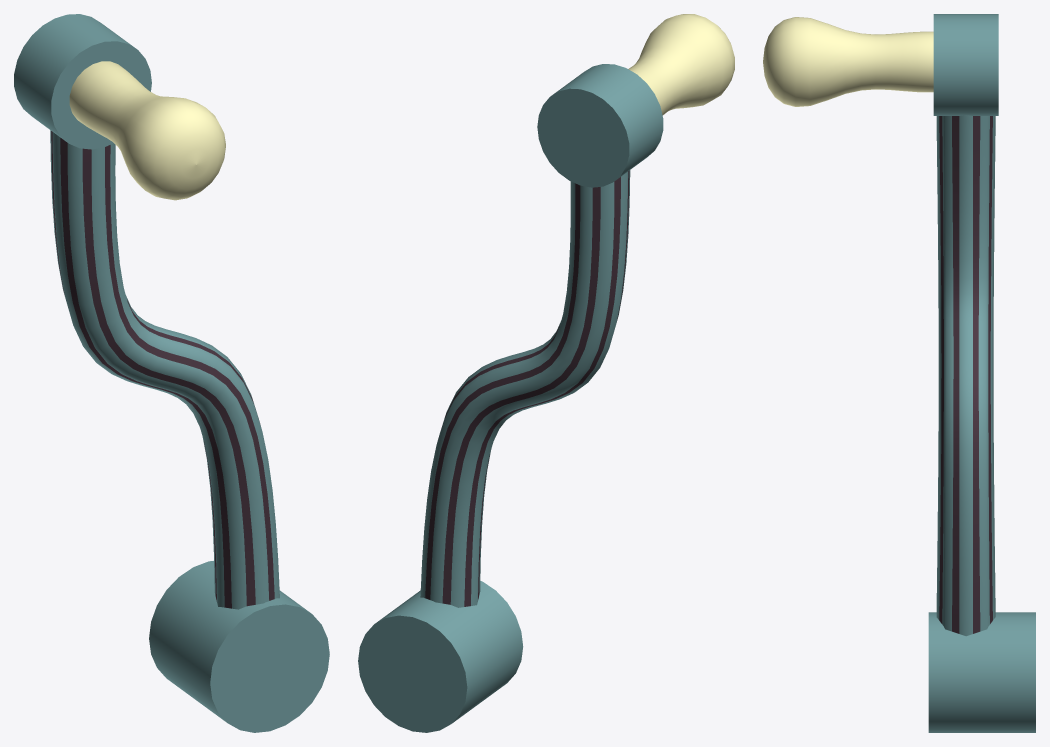
The model's file is crank interactable.fbx.
3 views of the same model, side by side, from view 1: azimuth 30°, elevation 25°; view 2: azimuth 150°, elevation 25°; view 3: azimuth 270°, elevation 25° (orthographic). The views are drawn at different scales.
Parts seen in each view (by area): view 1: crank_interactable; view 2: crank_interactable; view 3: crank_interactable.
Part boxes in pixels (x1=…): crank_interactable: x1=14, y1=14, x2=329, y2=732; crank_interactable: x1=358, y1=14, x2=734, y2=732; crank_interactable: x1=763, y1=14, x2=1035, y2=732.
Size of the model in its own units: 15.4 by 38.82 by 15.06.
